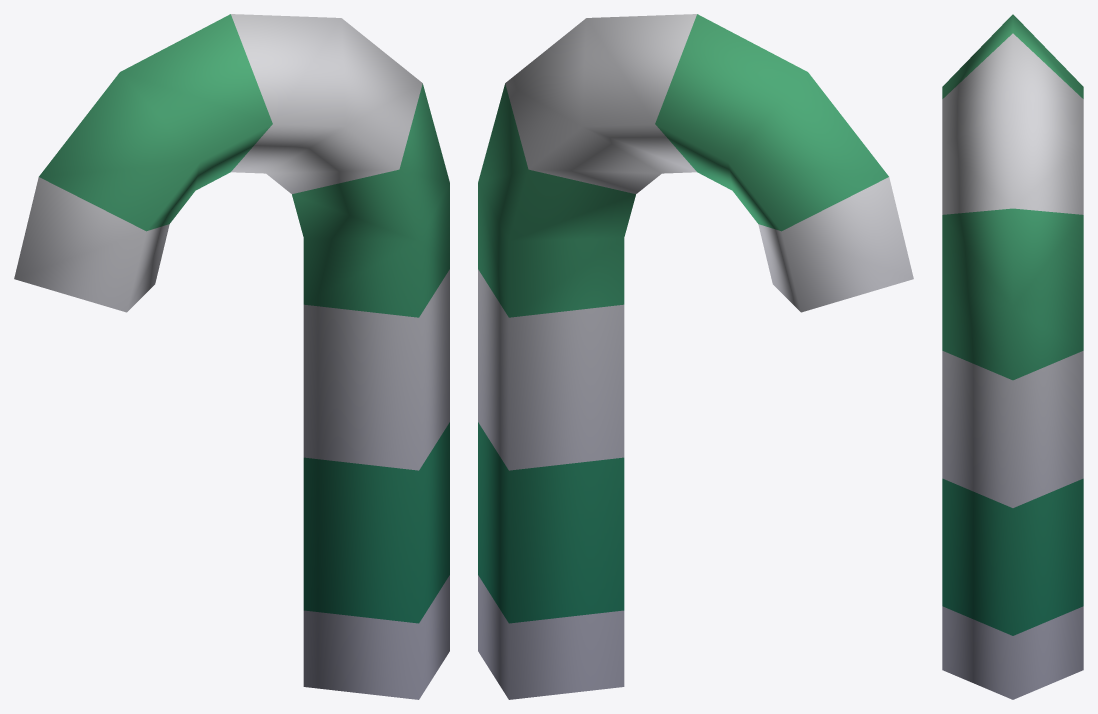
Rendered from candy-cane-green.glb.
The picture shows the model from 3 angles, left to right: view 1: azimuth 30°, elevation 25°; view 2: azimuth 150°, elevation 25°; view 3: azimuth 270°, elevation 25°; orthographic projection. The views are drawn at different scales.
Parts seen in each view (by area): view 1: candy-cane-green; view 2: candy-cane-green; view 3: candy-cane-green.
Boxes of the visible parts, x1=… form: candy-cane-green: x1=14, y1=14, x2=449, y2=699; candy-cane-green: x1=478, y1=14, x2=913, y2=699; candy-cane-green: x1=942, y1=14, x2=1083, y2=699.
Size of the model in its own units: 0.2983 by 0.4518 by 0.1.
